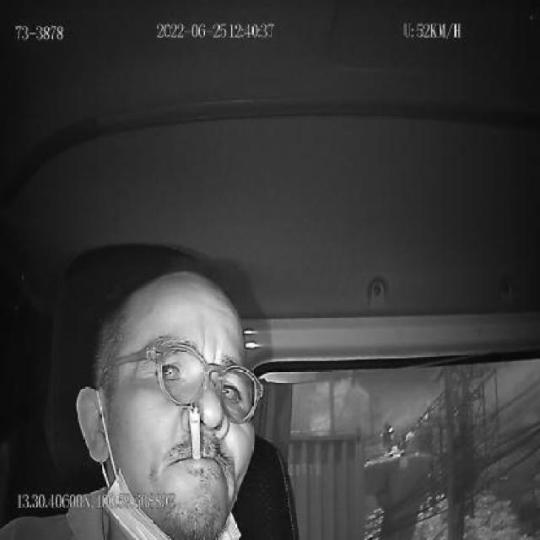smoking: (188, 403, 204, 463)
